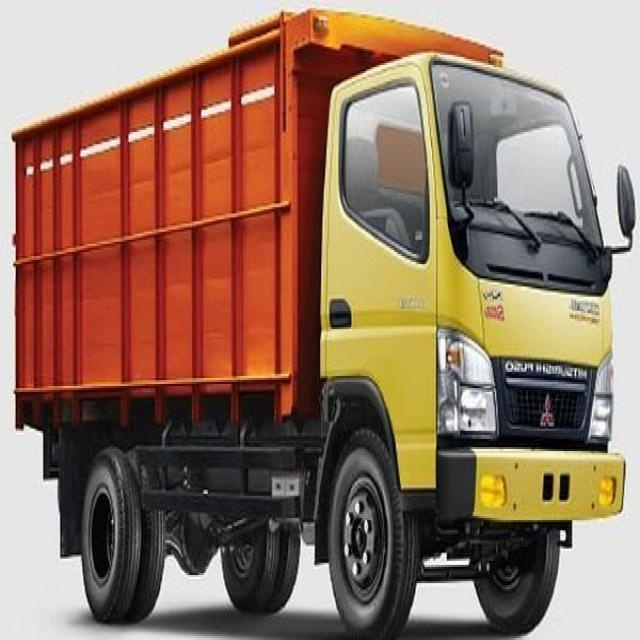Truck: (14, 2, 635, 638)
